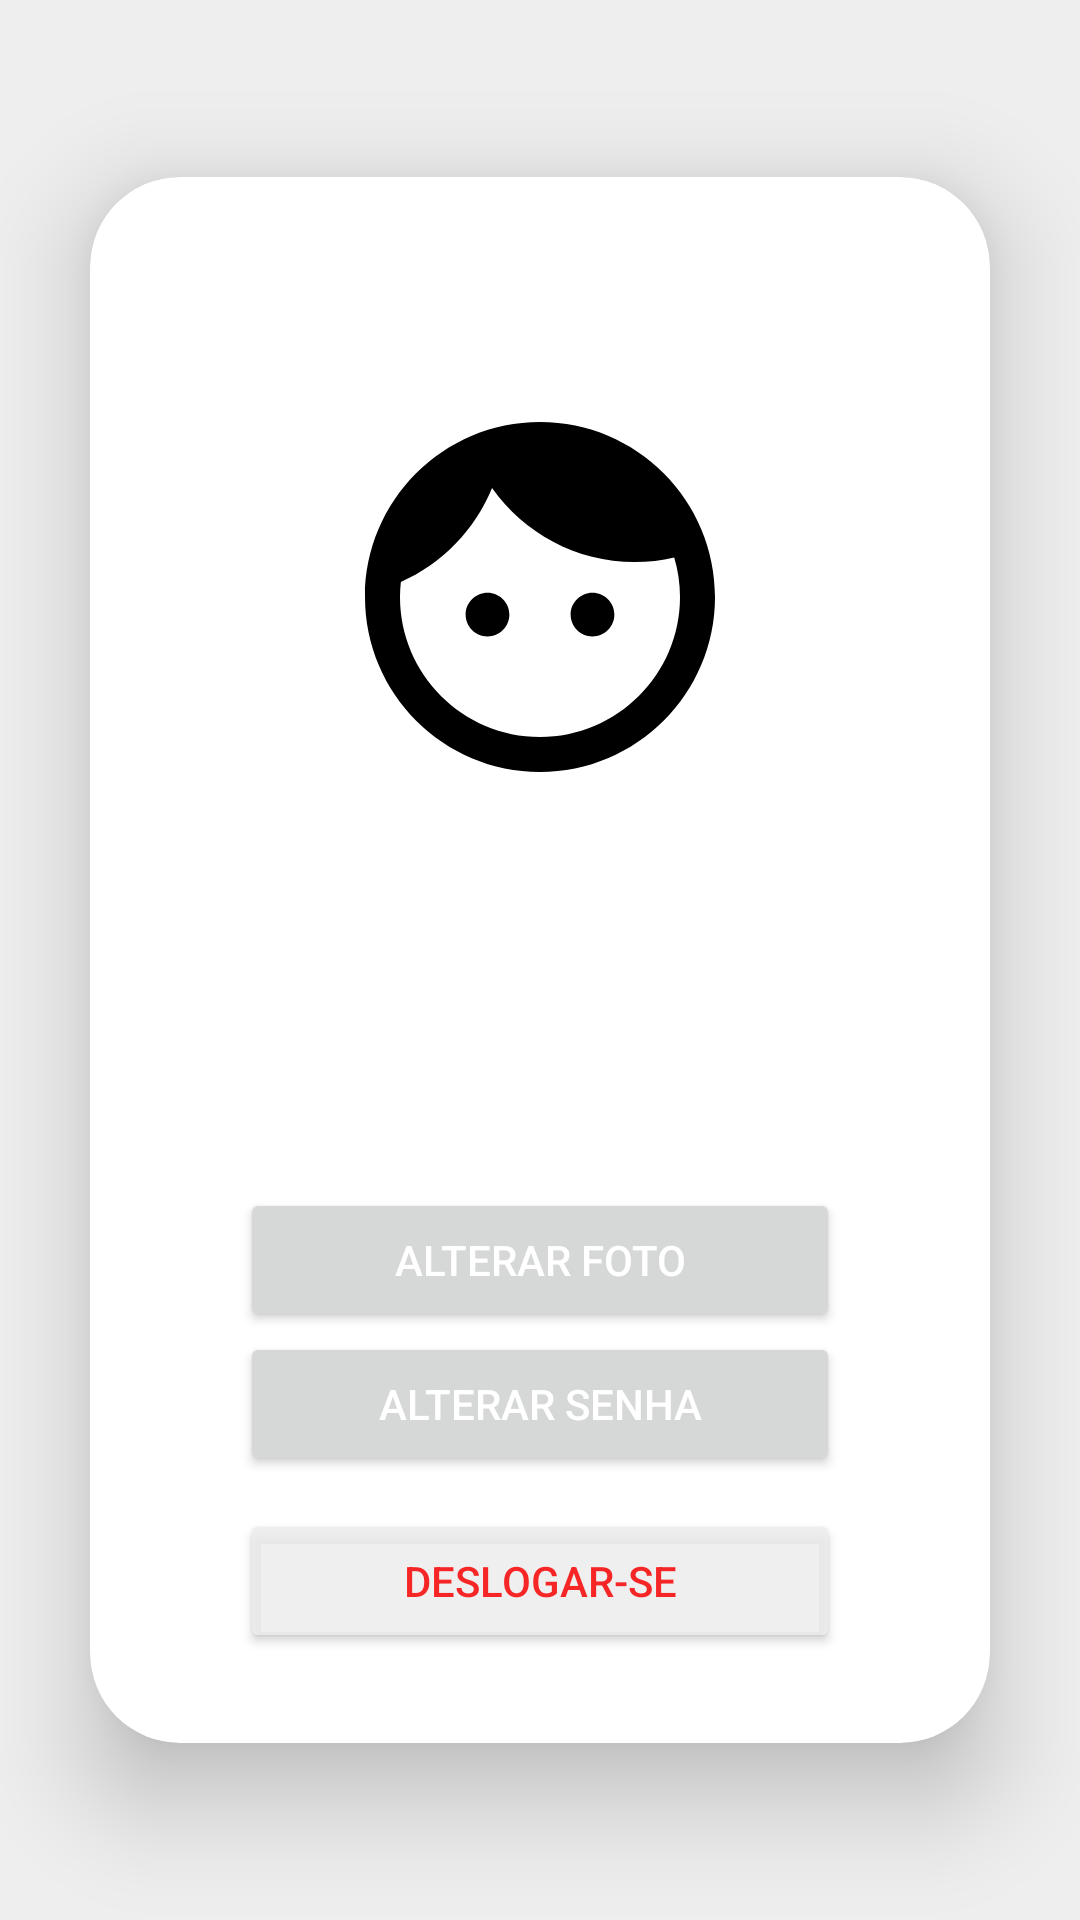

Point at icon controls on the screen. Image size 1080*1920, points as [x,y].
face: [540,597]
